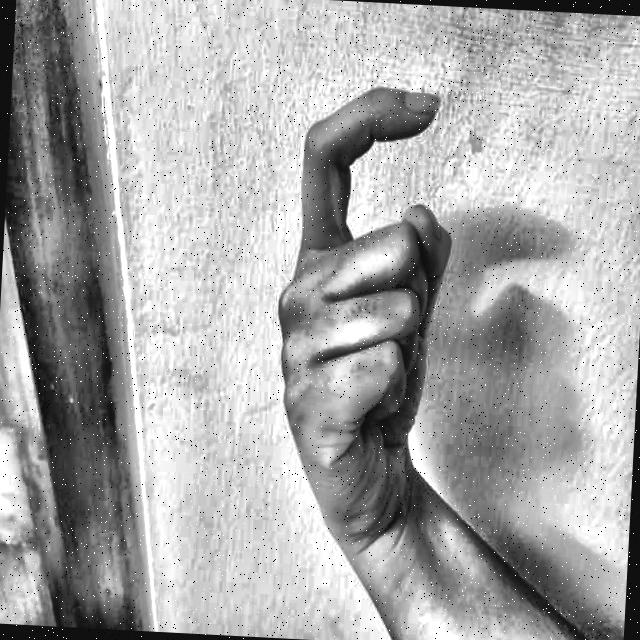E: (228, 41, 513, 562)
